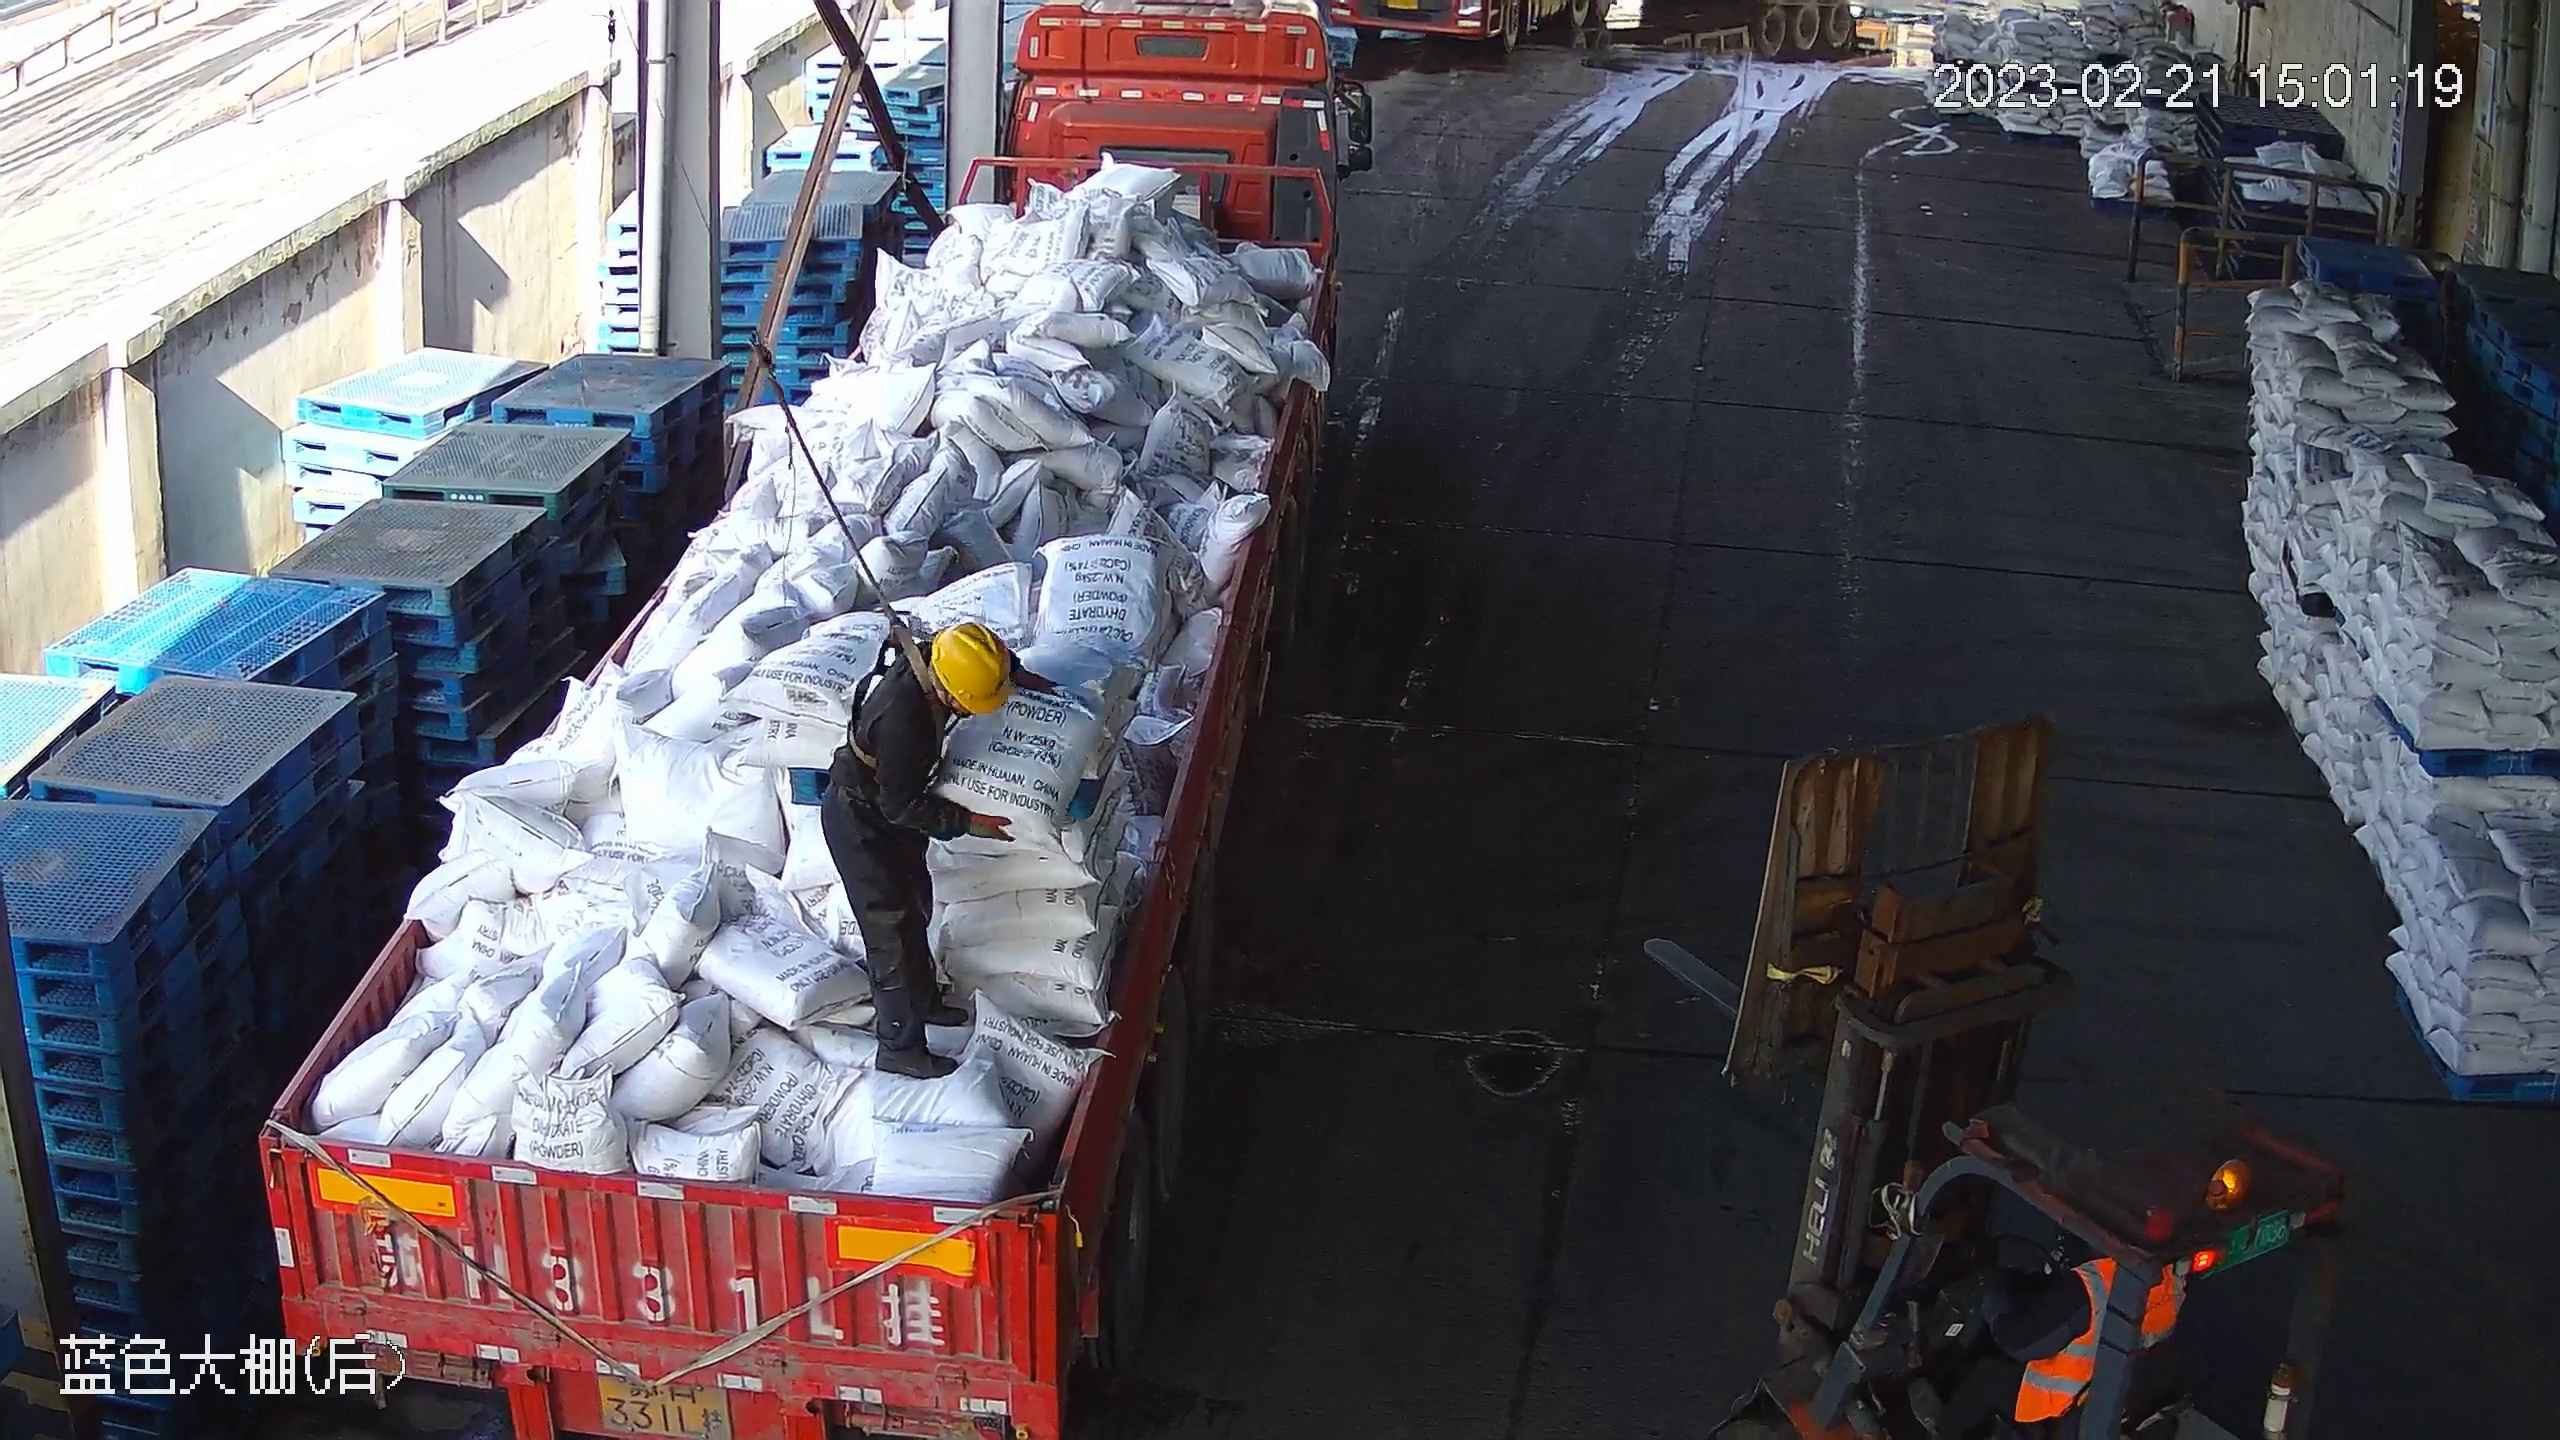belt: (848, 615, 945, 773)
head: (869, 623, 1013, 746)
helmet: (931, 620, 1012, 714)
people: (820, 621, 1067, 1081)
truck: (256, 1, 1374, 1440)
